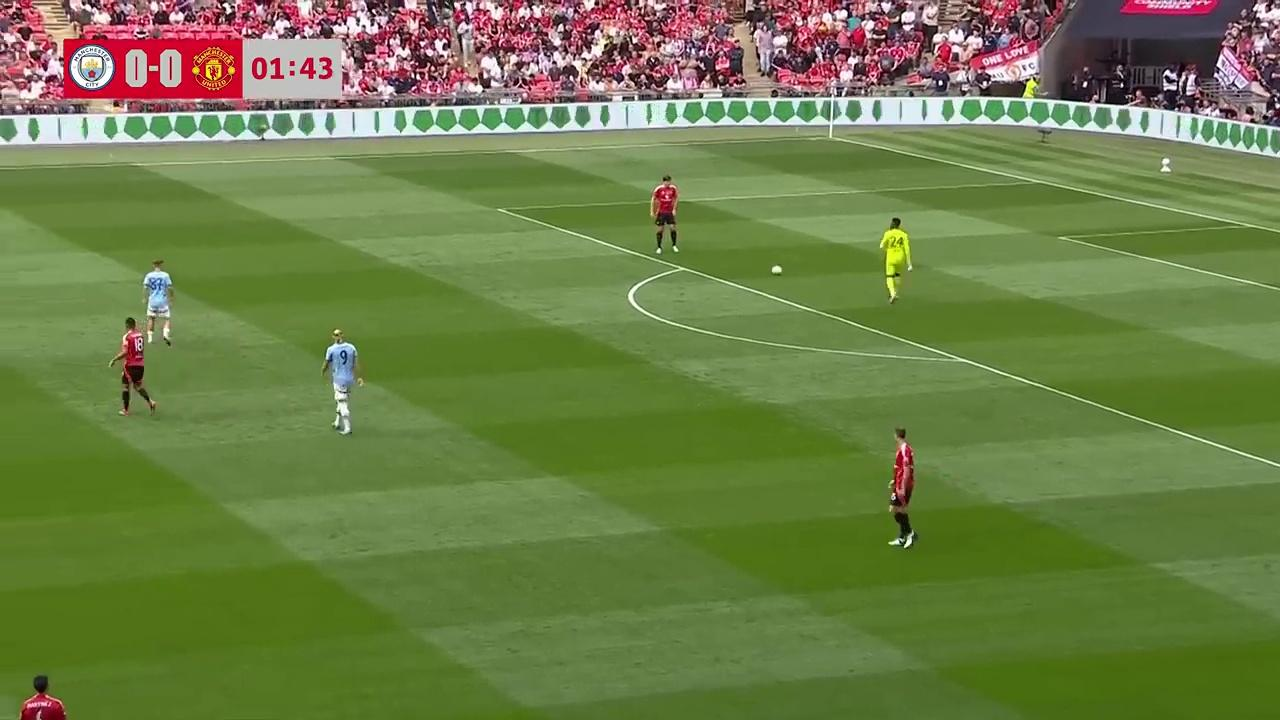ball: (769, 260, 784, 276)
player: (108, 316, 157, 416), (320, 329, 363, 435), (887, 426, 918, 548), (142, 259, 173, 347), (879, 215, 908, 304), (18, 672, 66, 720), (651, 174, 679, 253)
